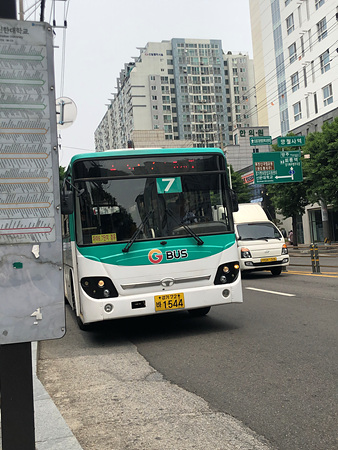bnum: (159, 176, 179, 191)
